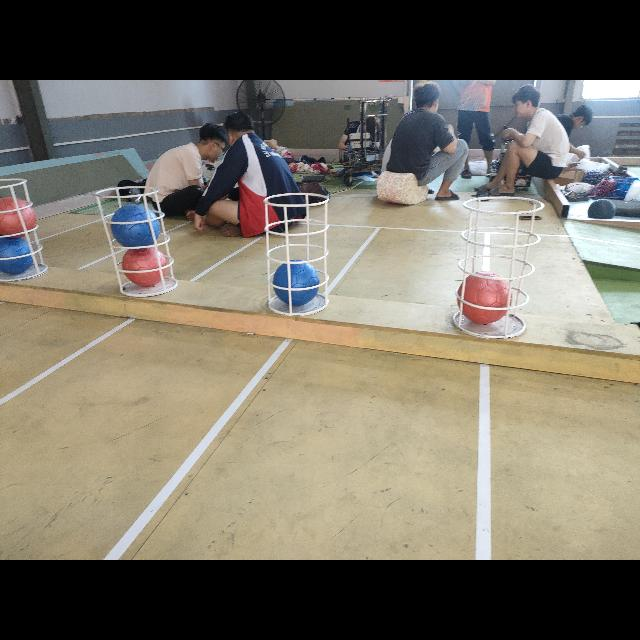B: (110, 204, 162, 248), (274, 259, 320, 305), (0, 234, 34, 274)
R: (458, 270, 512, 324), (122, 246, 168, 288), (1, 196, 36, 238)
